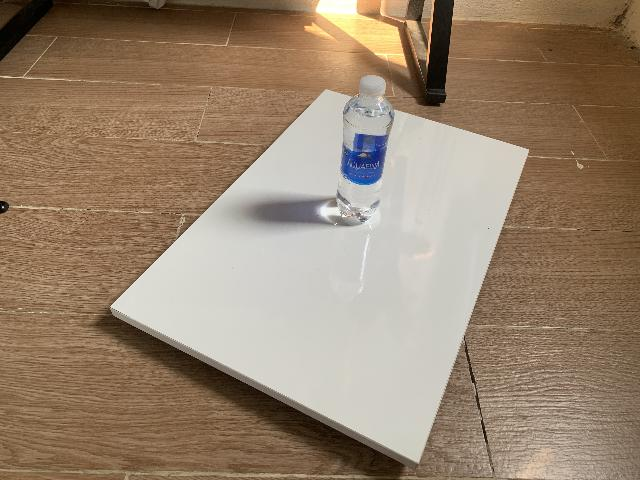aquafina: (336, 75, 395, 222)
